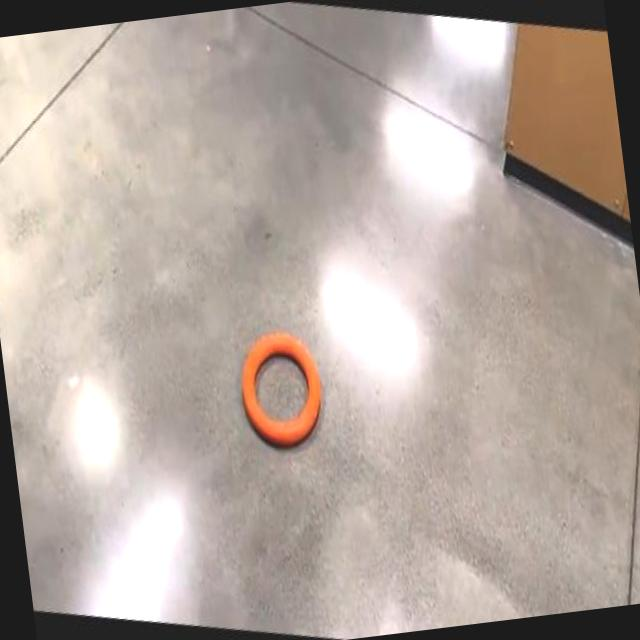note: (240, 332, 320, 444)
